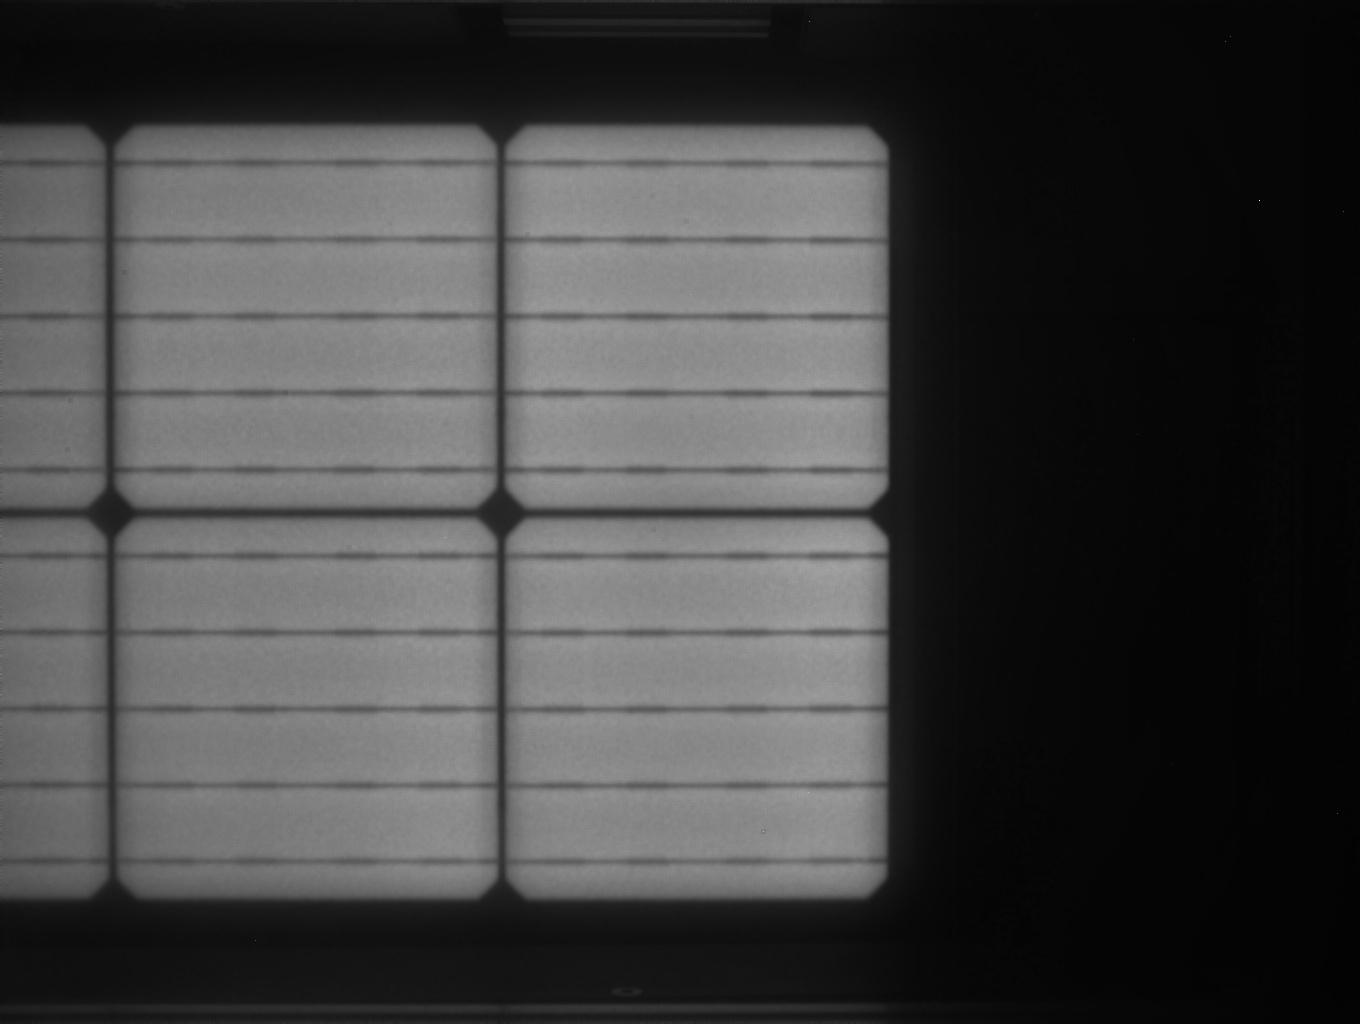loc: (110, 124, 218, 225), (114, 904, 194, 984), (891, 125, 932, 205), (891, 900, 929, 962)
